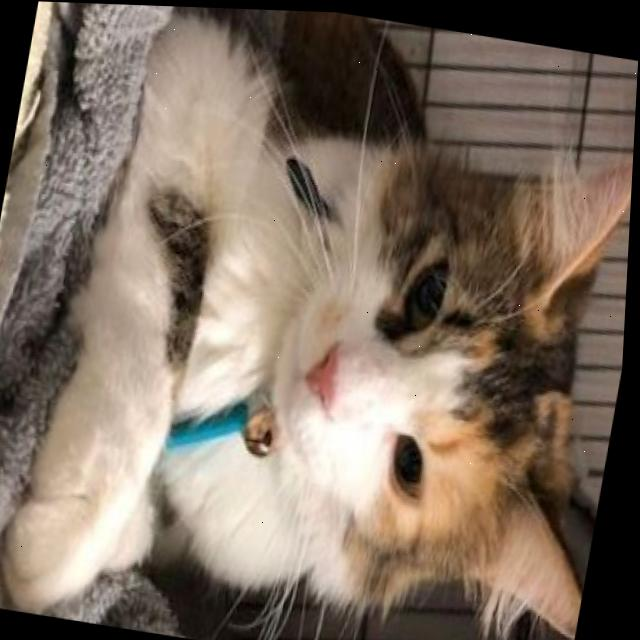Maine Coon: (0, 1, 640, 640)
